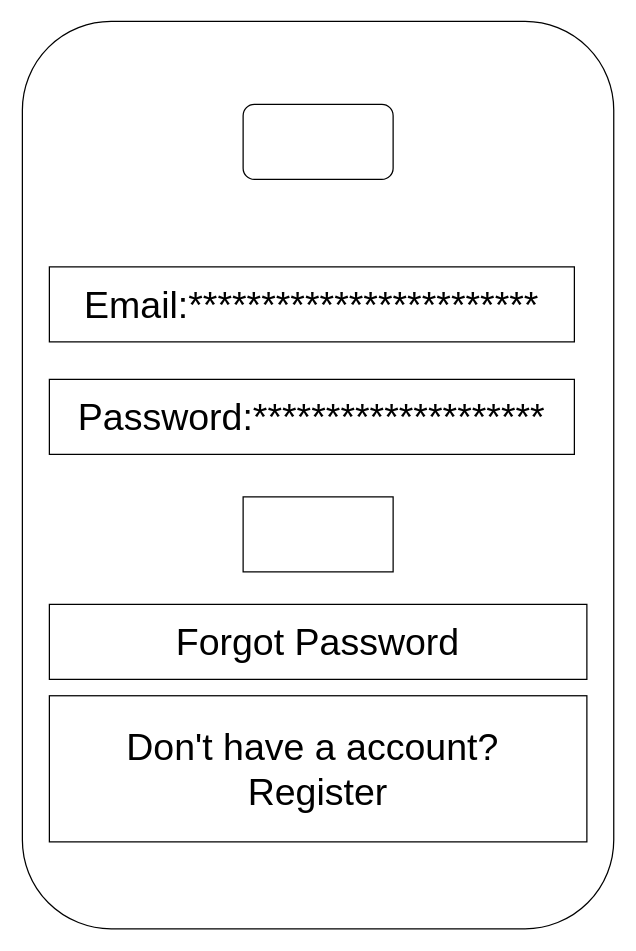
The diagram is 636 pixels wide and 951 high, and some of its shapes have lost their labels. Here are the shapes that lost their labels. From the top down, the centre of each, then its label:
point (317, 141): LoGo
point (317, 534): Login
